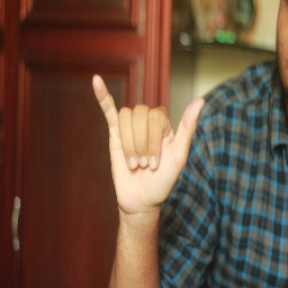J: (91, 71, 208, 205)
